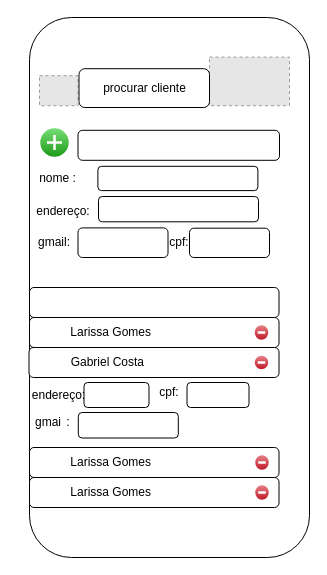
The diagram is 327 pixels wide and 575 high, and some of its shapes have lost their labels. Grey dashed boxes stand in for pictures. Each missing label, with the centre of its shape:
cadastrar cliente: point (178, 144)
lista de clientes: point (153, 302)
